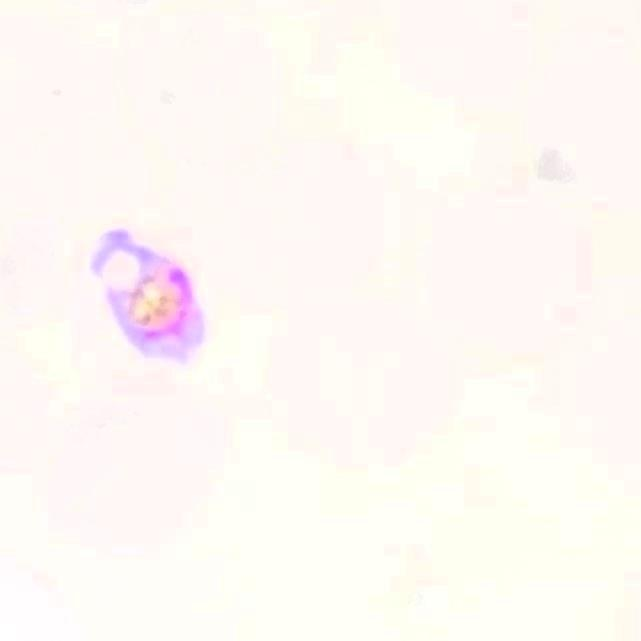Infected: (78, 228, 221, 363)
Uninfected: (269, 275, 465, 472), (39, 370, 245, 557), (419, 196, 594, 386)
